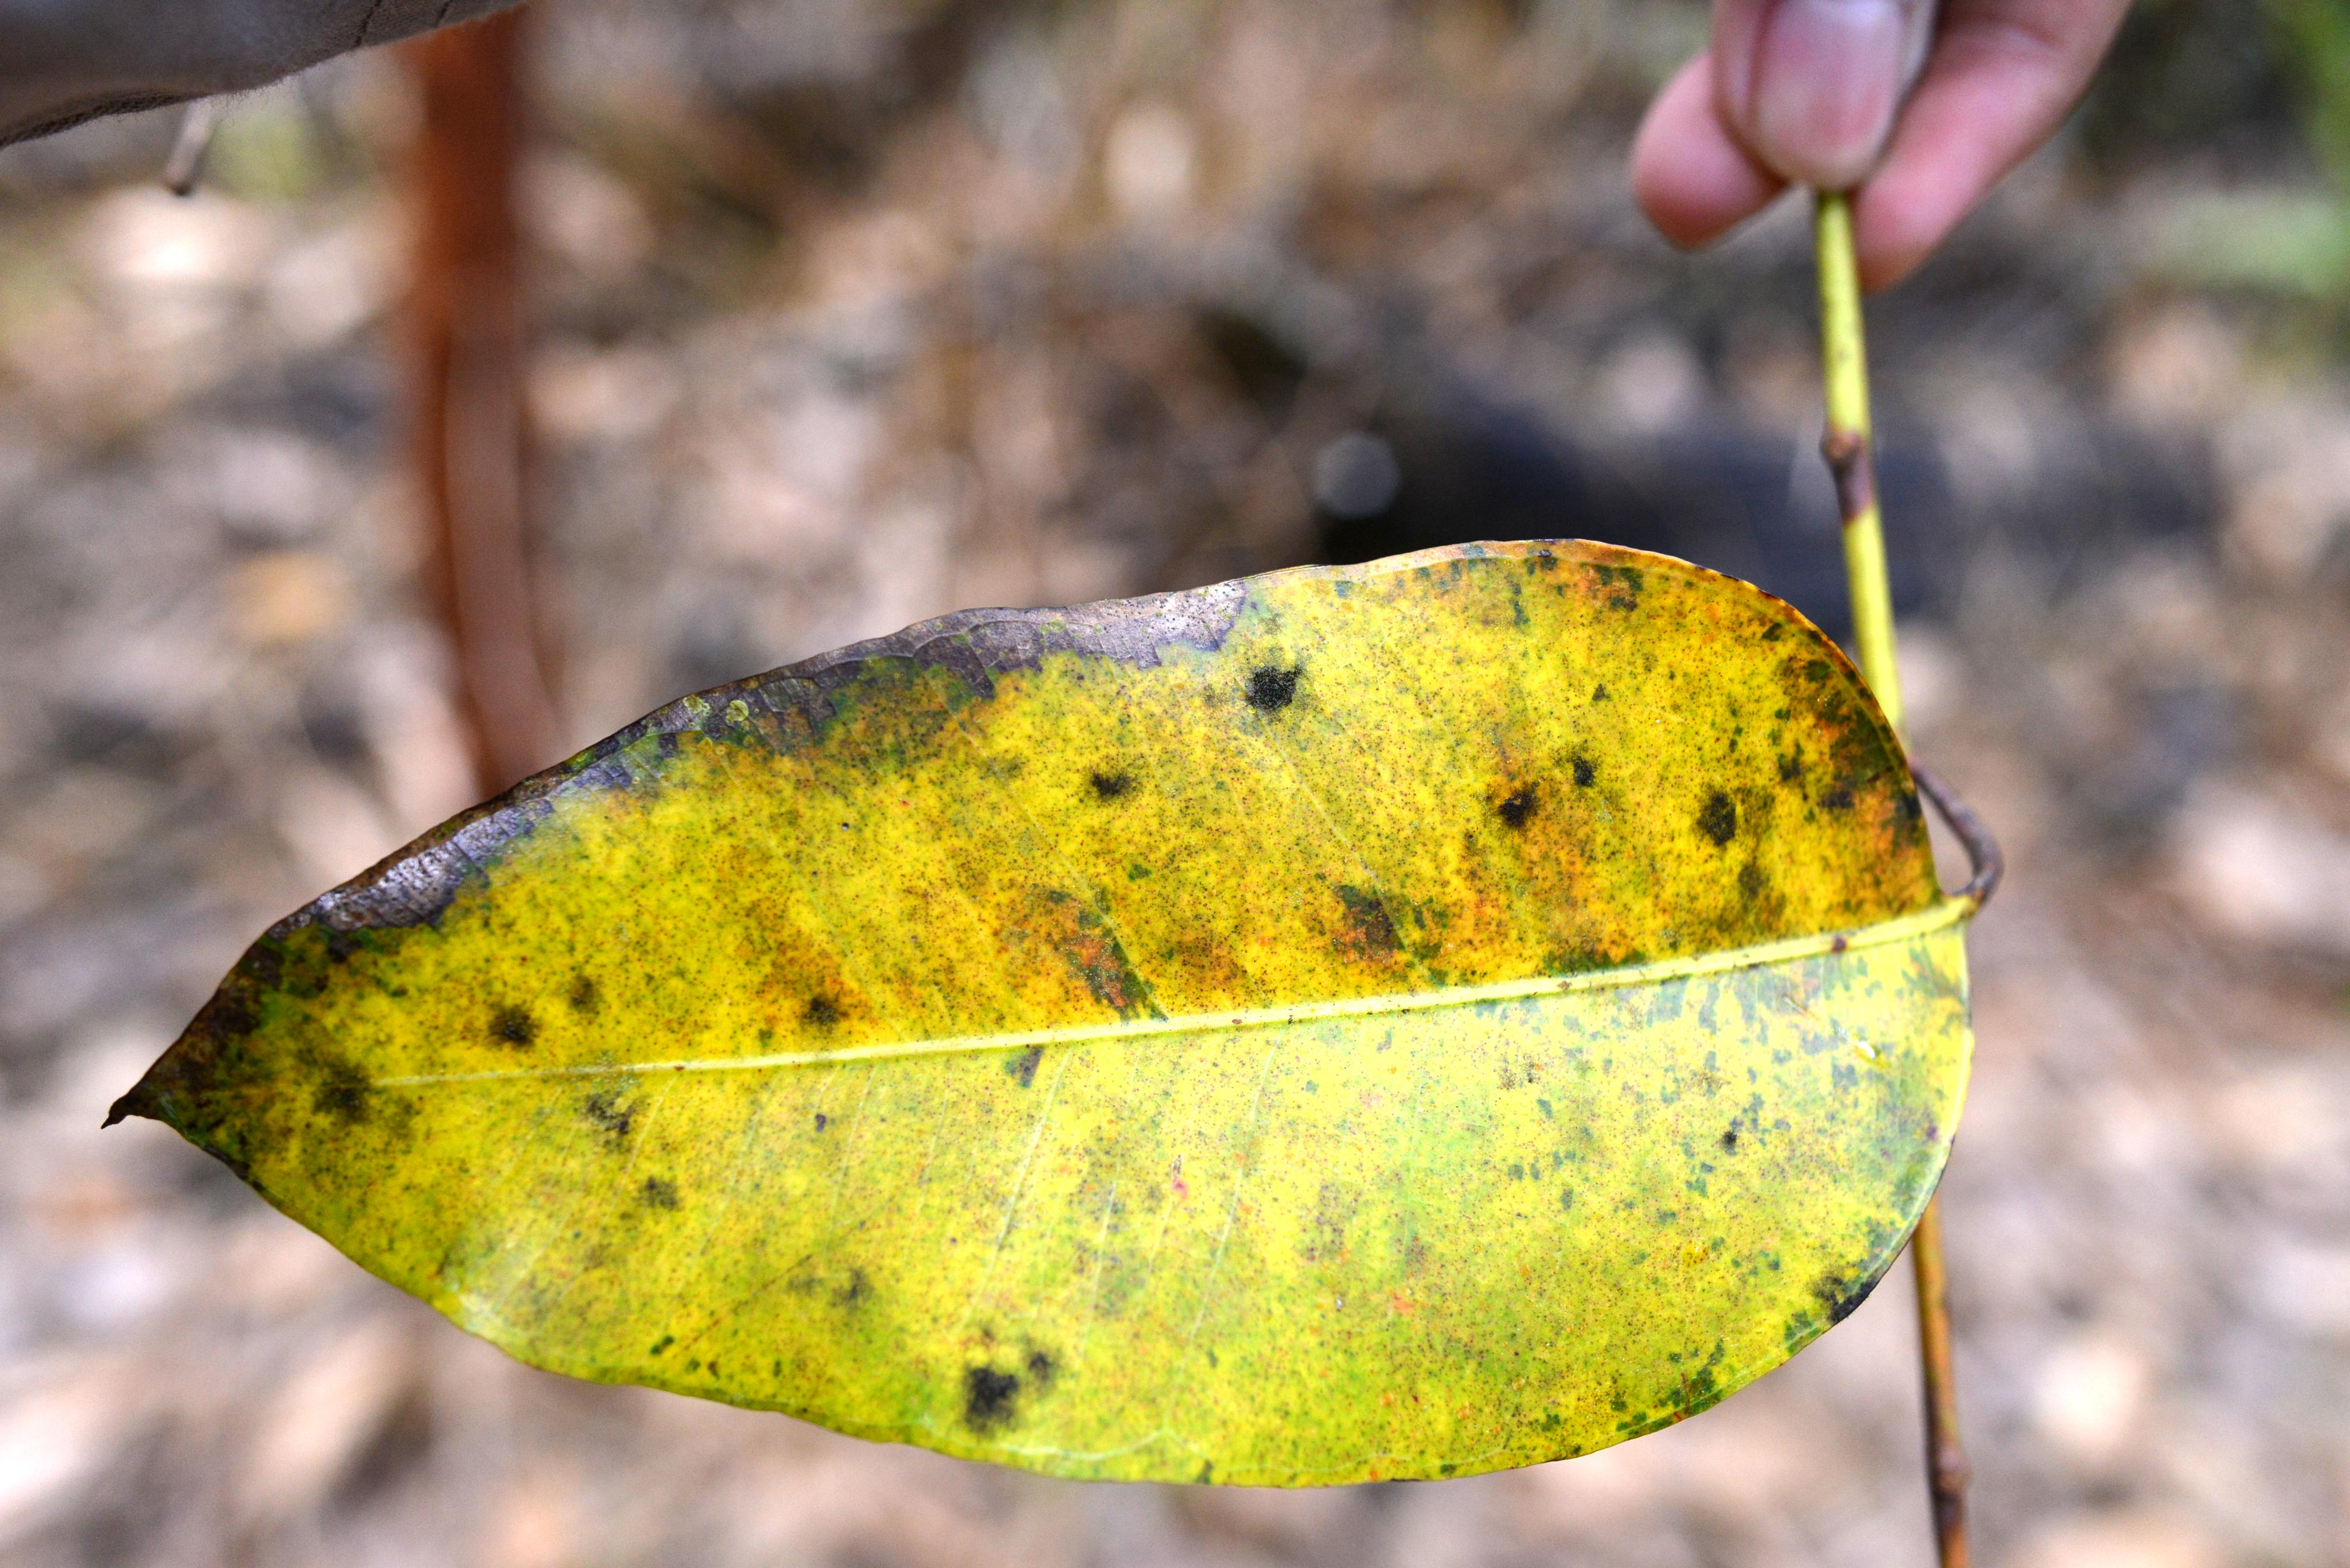Embun Jelaga: (80, 537, 1990, 1508)
